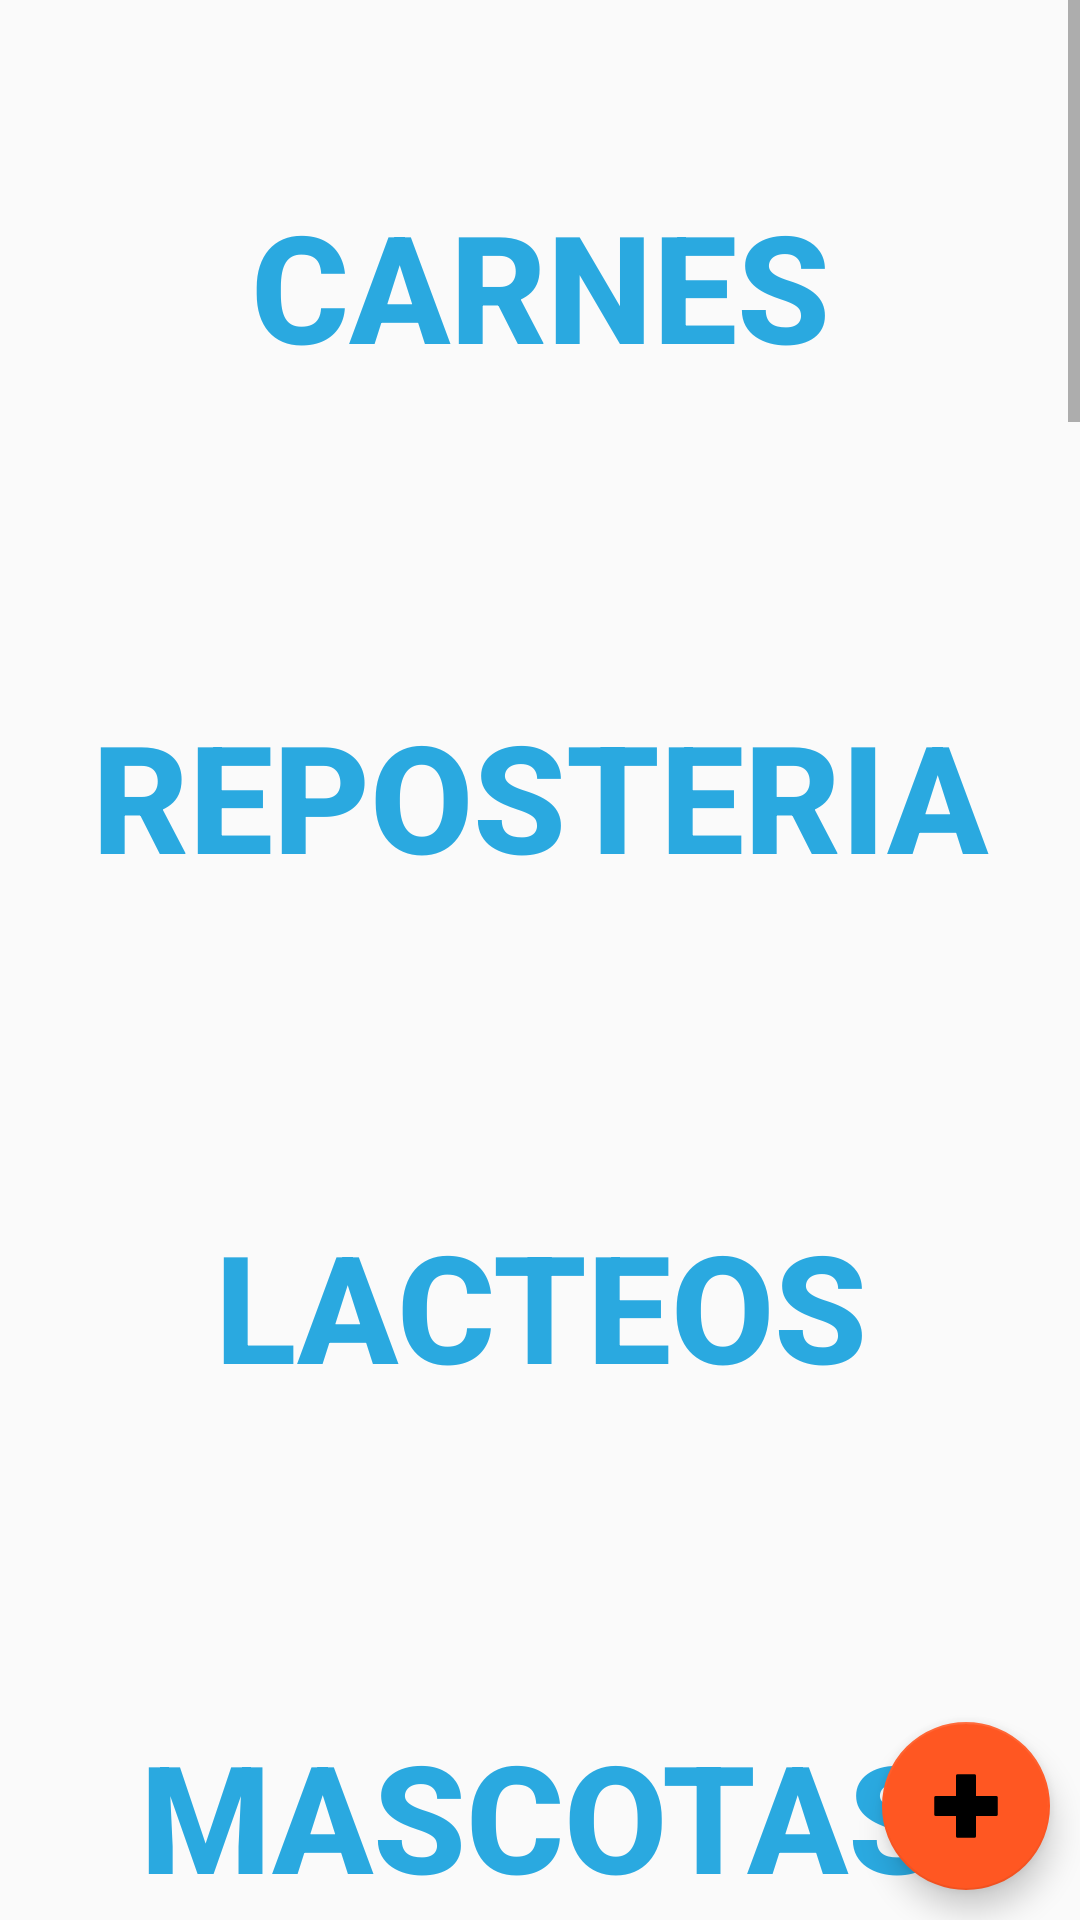

Where to tap for icons on this 1080w x 1920h app screen, as (x=x, y=y):
mas: (x=966, y=1806)
